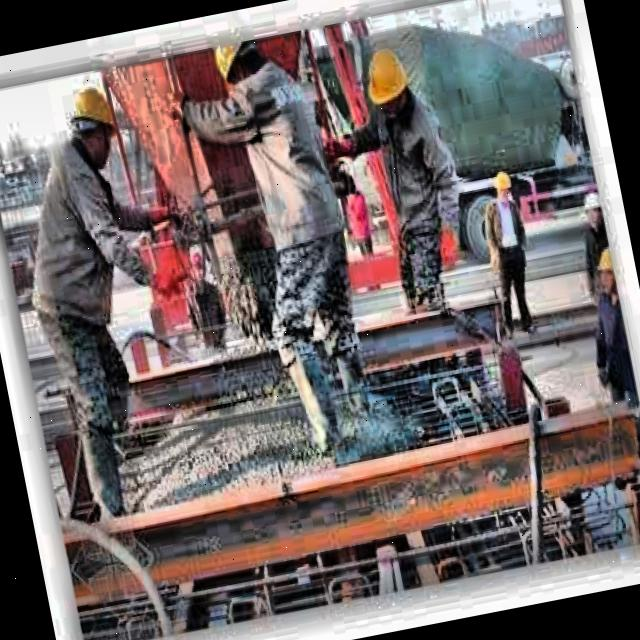helmet: (60, 74, 128, 172), (358, 37, 418, 131), (203, 28, 277, 102), (590, 244, 620, 306), (580, 184, 608, 244), (492, 166, 517, 207)
